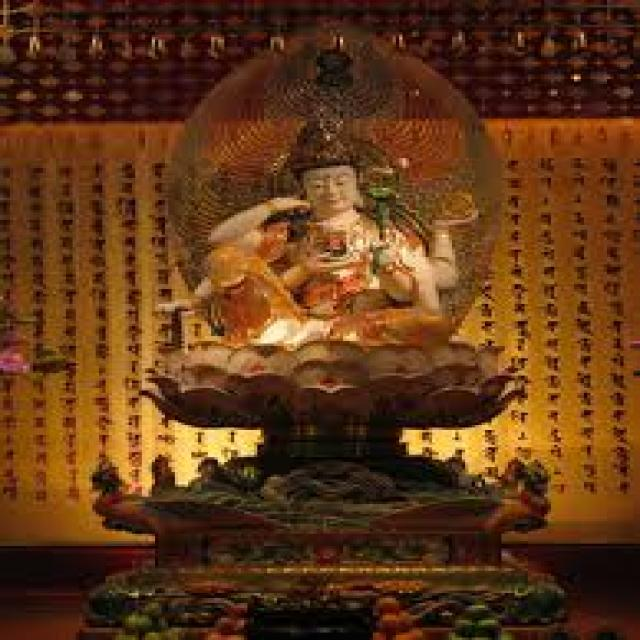Guan Yin: (260, 122, 387, 272)
